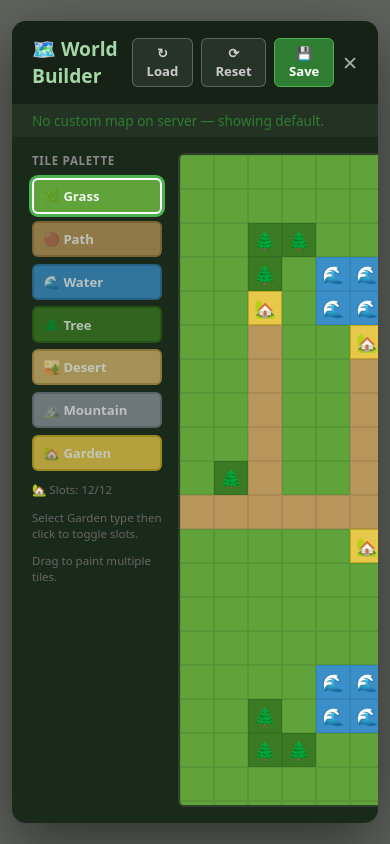
Test: WorldBuilder — reset › shows reset status message
Wait until the initial load is done and the button is enabled
What coordinates should you click on to do the following:
click the button with aria-label "Reset map"
I would click on:
 (234, 62)
Its box is [201,38,266,87].
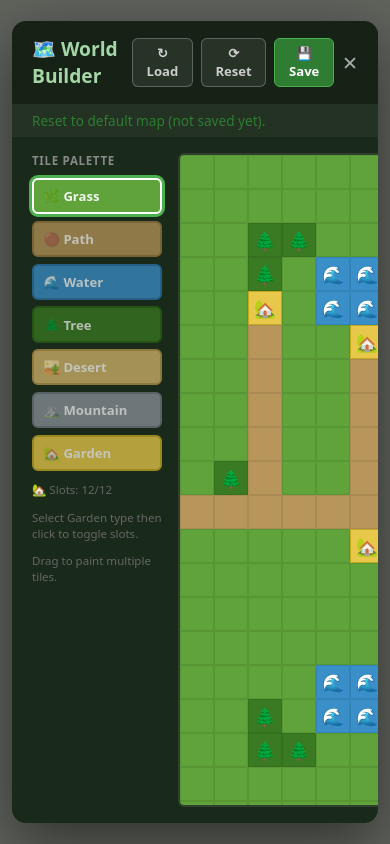
Check: the text "Reset to default map (not saved yet)." is shown, box [12,105,378,137]
